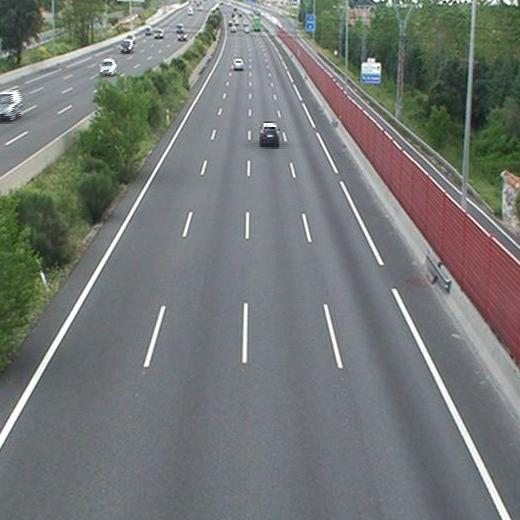car: (259, 123, 280, 145), (233, 59, 244, 71)
